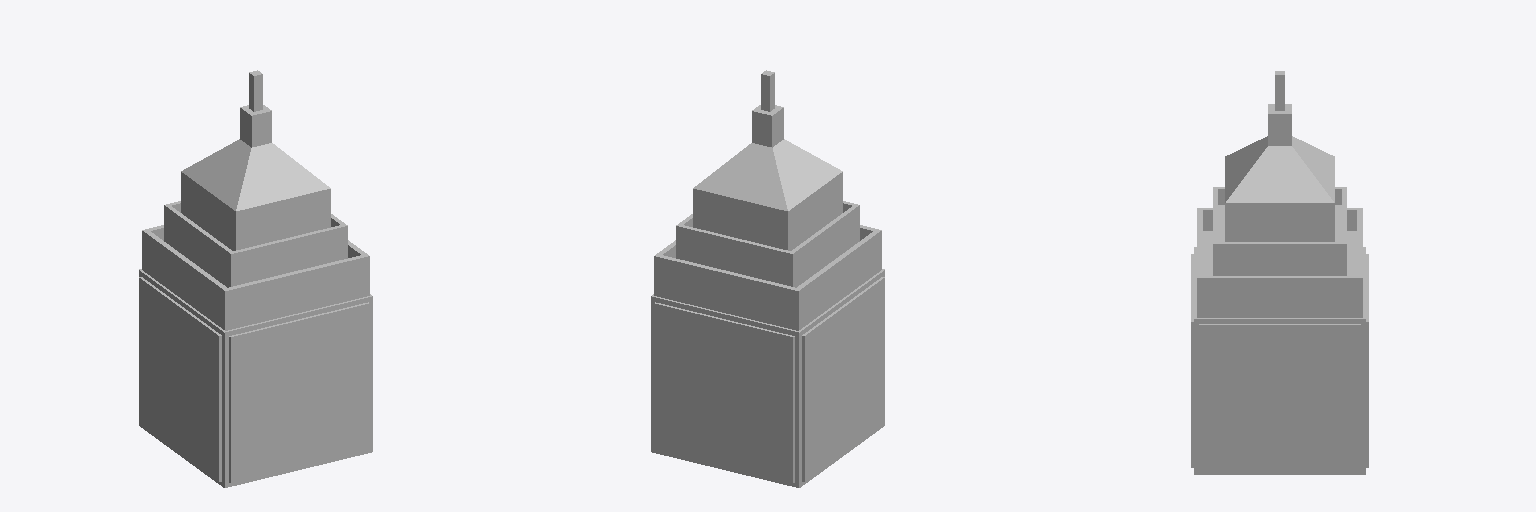
3 views of the same model, side by side, from view 1: azimuth 30°, elevation 25°; view 2: azimuth 150°, elevation 25°; view 3: azimuth 270°, elevation 25° (orthographic).
Parts seen in each view (by area): view 1: Highrise_9; view 2: Highrise_9; view 3: Highrise_9.
Boxes of the visible parts, x1=… form: Highrise_9: x1=139, y1=70, x2=372, y2=487; Highrise_9: x1=651, y1=70, x2=884, y2=487; Highrise_9: x1=1191, y1=71, x2=1368, y2=474.
Size of the model in its own units: 207 by 469 by 207.